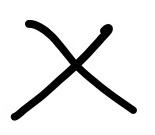mult: (11, 20, 137, 119)
